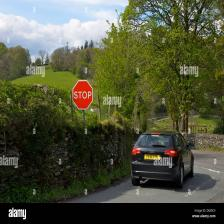Stop-sign: (72, 76, 94, 113)
